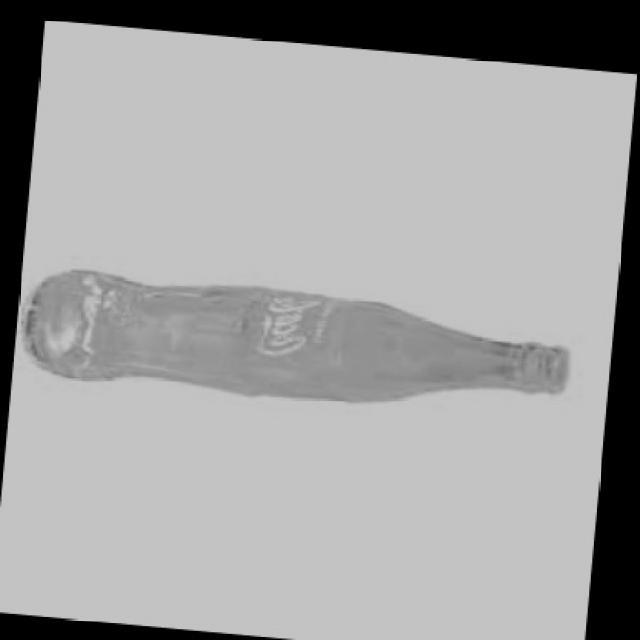Glass: (22, 270, 570, 403)
